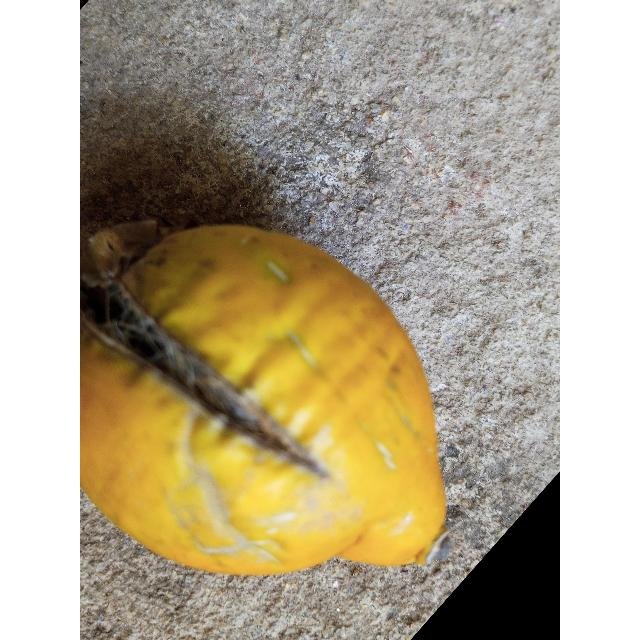damaged: (80, 220, 447, 575)
